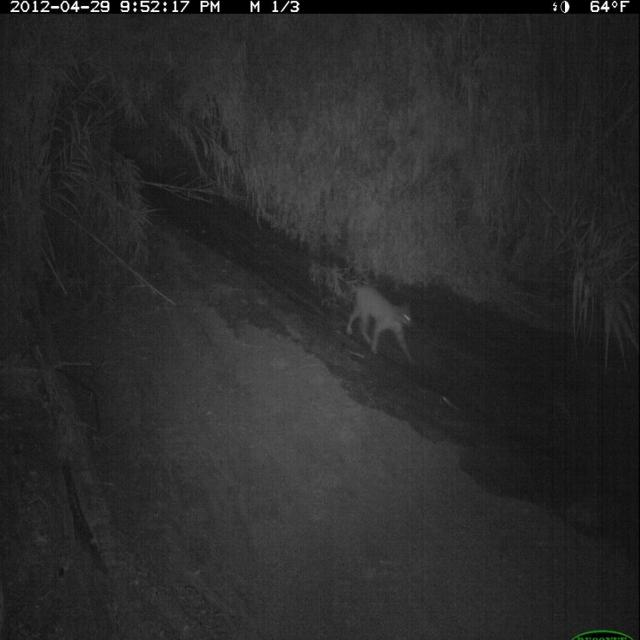bobcat: (344, 280, 417, 368)
